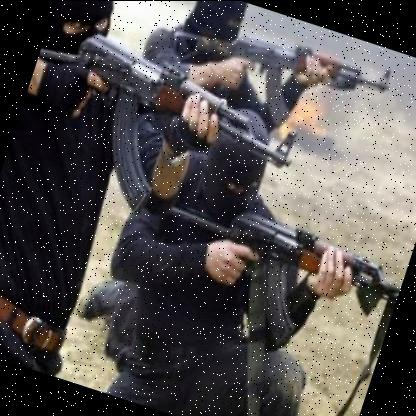rifle: (26, 23, 306, 247), (148, 0, 395, 152), (193, 196, 411, 335)
